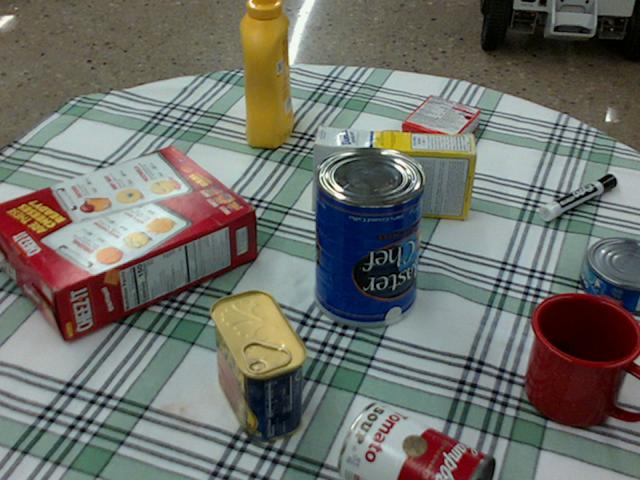cracker_box: (0, 147, 253, 340)
gelatin_box: (400, 95, 479, 156)
large_marker: (539, 174, 616, 220)
master_chef_can: (314, 146, 427, 325)
mug: (524, 292, 639, 426)
mustard_bottle: (239, 0, 291, 147)
potted_meat_can: (209, 290, 307, 440)
sugar_box: (311, 127, 476, 219)
tomato_soup_can: (338, 403, 496, 479)
tuna_fish_can: (581, 237, 639, 313)
